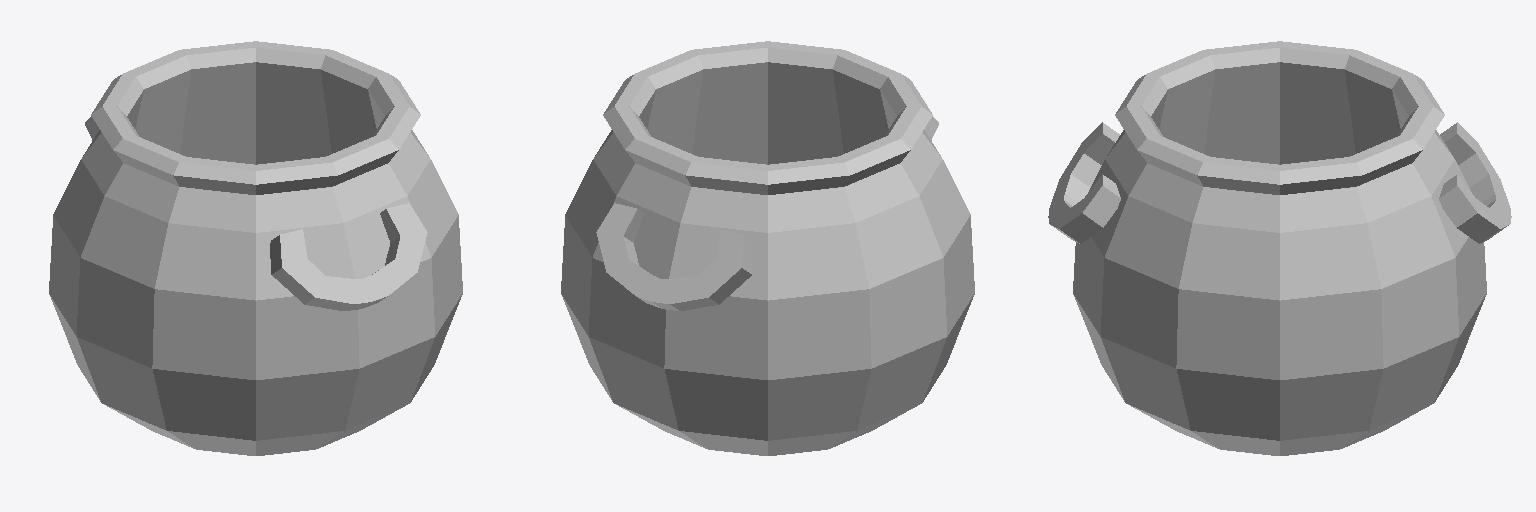
Rendered from caul.obj.
3 views of the same model, side by side, from view 1: azimuth 30°, elevation 25°; view 2: azimuth 150°, elevation 25°; view 3: azimuth 270°, elevation 25° (orthographic).
Visible parts, largest first — view 1: Circle, Cube; view 2: Circle, Cube; view 3: Circle, Cube.
Part boxes in pixels (bbox=[...]): Circle: bbox=[49, 41, 462, 455]; Cube: bbox=[85, 116, 427, 310]; Circle: bbox=[561, 41, 974, 455]; Cube: bbox=[596, 116, 938, 310]; Circle: bbox=[1073, 41, 1486, 455]; Cube: bbox=[1048, 122, 1511, 243].
Bounding box in the file's own units: 4.66 × 3.72 × 5.2.